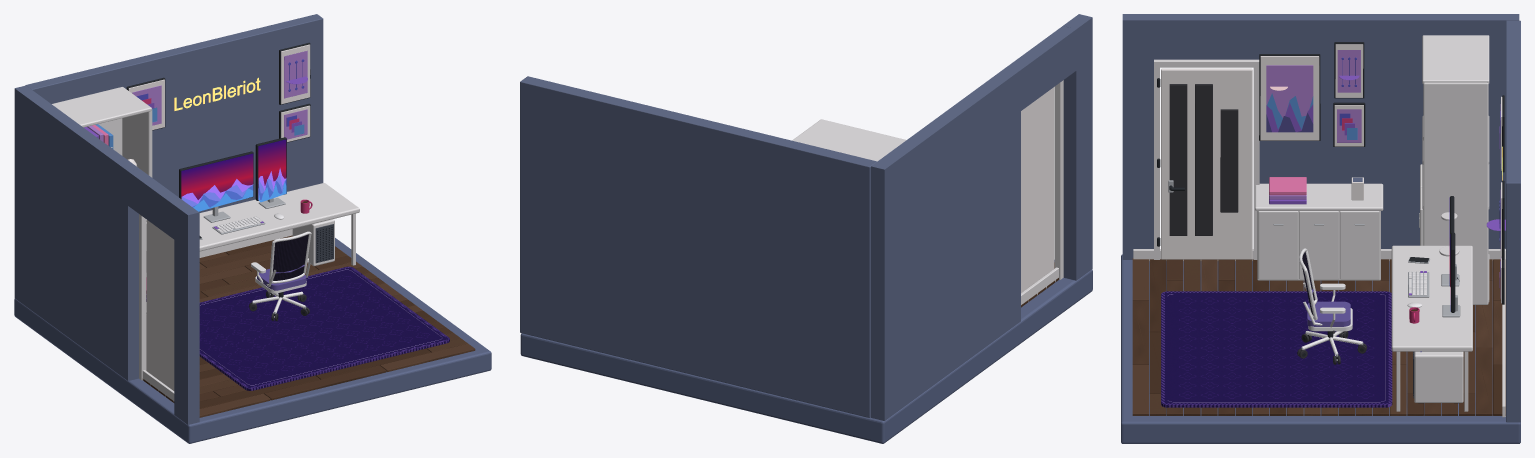
File: studio.glb
The picture shows the model from 3 angles, left to right: view 1: azimuth 30°, elevation 25°; view 2: azimuth 150°, elevation 25°; view 3: azimuth 270°, elevation 25°; orthographic projection. The views are drawn at different scales.
Visible parts, largest first — view 1: wall_rear, room | WEB | Muted blue violet plaster.002, rug | WEB | Rug | indigo jacquard weave.002, room | WEB | Deep lavender wall edges.002, wall_front, room | WEB | Warm porcelain | furniture.003, desk | WEB | Warm porcelain | furniture.003, door | WEB | Warm art paper.003, room | WEB | Whitewashed oak 6.003, wall_door_header, monitors | WEB | Main monitor luminous pastel sky.003, room | WEB | Whitewashed oak 2.003 (+15 smaller); view 2: room | WEB | Muted blue violet plaster.002, wall_rear, room | WEB | Deep lavender wall edges.002, wall_front, door | WEB | Warm art paper.003, wall_door_header, room | WEB | Warm porcelain | furniture.003, door_frame_jamb; view 3: room | WEB | Warm porcelain | furniture.003, wall_rear, rug | WEB | Rug | indigo jacquard weave.002, room | WEB | Deep lavender wall edges.002, door | WEB | Warm art paper.003, desk | WEB | Warm porcelain | furniture.003, wall_front, door | WEB | Soft charcoal rubber.003, room | WEB | Muted blue violet plaster.002, wall_door_header, art | WEB | Book pastel 01.003, room | WEB | Whitewashed oak 6.003 (+21 smaller).
Part boxes in pixels (<box>): wall_rear: <box>14,85,138,380</box>; room | WEB | Muted blue violet plaster.002: <box>25,14,323,212</box>; rug | WEB | Rug | indigo jacquard weave.002: <box>199,266,449,390</box>; room | WEB | Deep lavender wall edges.002: <box>14,238,491,443</box>; wall_front: <box>174,202,199,424</box>; room | WEB | Warm porcelain | furniture.003: <box>52,87,292,401</box>; desk | WEB | Warm porcelain | furniture.003: <box>199,183,359,265</box>; door | WEB | Warm art paper.003: <box>146,220,174,390</box>; room | WEB | Whitewashed oak 6.003: <box>199,261,475,417</box>; wall_door_header: <box>128,168,185,239</box>; monitors | WEB | Main monitor luminous pastel sky.003: <box>181,153,253,199</box>; room | WEB | Whitewashed oak 2.003: <box>173,255,444,402</box>; room | WEB | Muted blue violet plaster.002: <box>520,76,876,417</box>; wall_rear: <box>871,66,1020,420</box>; room | WEB | Deep lavender wall edges.002: <box>520,260,1092,443</box>; wall_front: <box>1063,14,1092,280</box>; door | WEB | Warm art paper.003: <box>1021,87,1054,292</box>; wall_door_header: <box>1007,26,1076,110</box>; room | WEB | Warm porcelain | furniture.003: <box>792,119,1058,304</box>; door_frame_jamb: <box>1054,80,1063,279</box>; room | WEB | Warm porcelain | furniture.003: <box>1133,35,1505,417</box>; wall_rear: <box>1259,14,1519,248</box>; rug | WEB | Rug | indigo jacquard weave.002: <box>1161,291,1392,407</box>; room | WEB | Deep lavender wall edges.002: <box>1121,254,1520,443</box>; door | WEB | Warm art paper.003: <box>1161,68,1252,259</box>; desk | WEB | Warm porcelain | furniture.003: <box>1391,245,1472,411</box>; wall_front: <box>1122,14,1153,259</box>; door | WEB | Soft charcoal rubber.003: <box>1169,84,1238,235</box>; room | WEB | Muted blue violet plaster.002: <box>1353,20,1520,422</box>; wall_door_header: <box>1154,14,1259,59</box>; art | WEB | Book pastel 01.003: <box>1266,50,1500,298</box>; room | WEB | Whitewashed oak 6.003: <box>1132,258,1492,415</box>.
Bounding box in the file's own units: 4.24 × 3.06 × 4.24.
43 materials, 11 textured.
